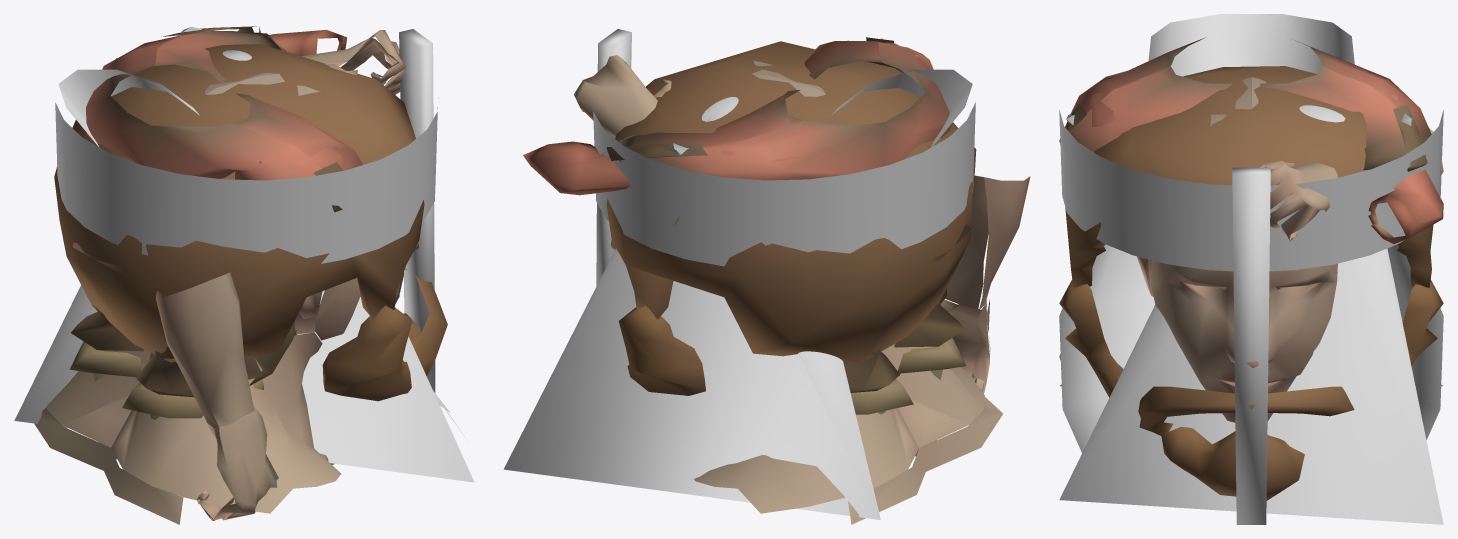
3 views of the same model, side by side, from view 1: azimuth 30°, elevation 25°; view 2: azimuth 150°, elevation 25°; view 3: azimuth 270°, elevation 25° (orthographic). The views are drawn at different scales.
Parts seen in each view (by area): view 1: tex:hair1, iron, tex:peasant, tex:skin, tex:hands, steel, team; view 2: steel, tex:hair1, iron, tex:peasant, tex:skin, tex:hands, team; view 3: steel, iron, tex:hair1, team, tex:peasant, tex:skin, tex:hands.
Part boxes in pixels (left/top/right/bottom): tex:hair1: left=54, top=44, right=447, bottom=401; iron: left=55, top=29, right=438, bottom=392; tex:peasant: left=69, top=26, right=362, bottom=464; tex:skin: left=34, top=73, right=419, bottom=524; tex:hands: left=155, top=30, right=405, bottom=520; steel: left=14, top=50, right=474, bottom=482; team: left=58, top=69, right=468, bottom=442; steel: left=503, top=97, right=880, bottom=520; tex:hair1: left=606, top=41, right=976, bottom=395; iron: left=592, top=29, right=975, bottom=286; tex:peasant: left=523, top=37, right=971, bottom=456; tex:skin: left=611, top=60, right=1002, bottom=524; tex:hands: left=574, top=55, right=1030, bottom=393; team: left=831, top=69, right=972, bottom=147; steel: left=1059, top=105, right=1443, bottom=524; iron: left=1059, top=110, right=1443, bottom=524; tex:hair1: left=1059, top=66, right=1443, bottom=500; team: left=1059, top=14, right=1443, bottom=452; tex:peasant: left=1059, top=37, right=1443, bottom=243; tex:skin: left=1059, top=77, right=1443, bottom=422; tex:hands: left=1059, top=128, right=1443, bottom=361.
Bounding box in the file's own units: 65535 × 65535 × 65535.
